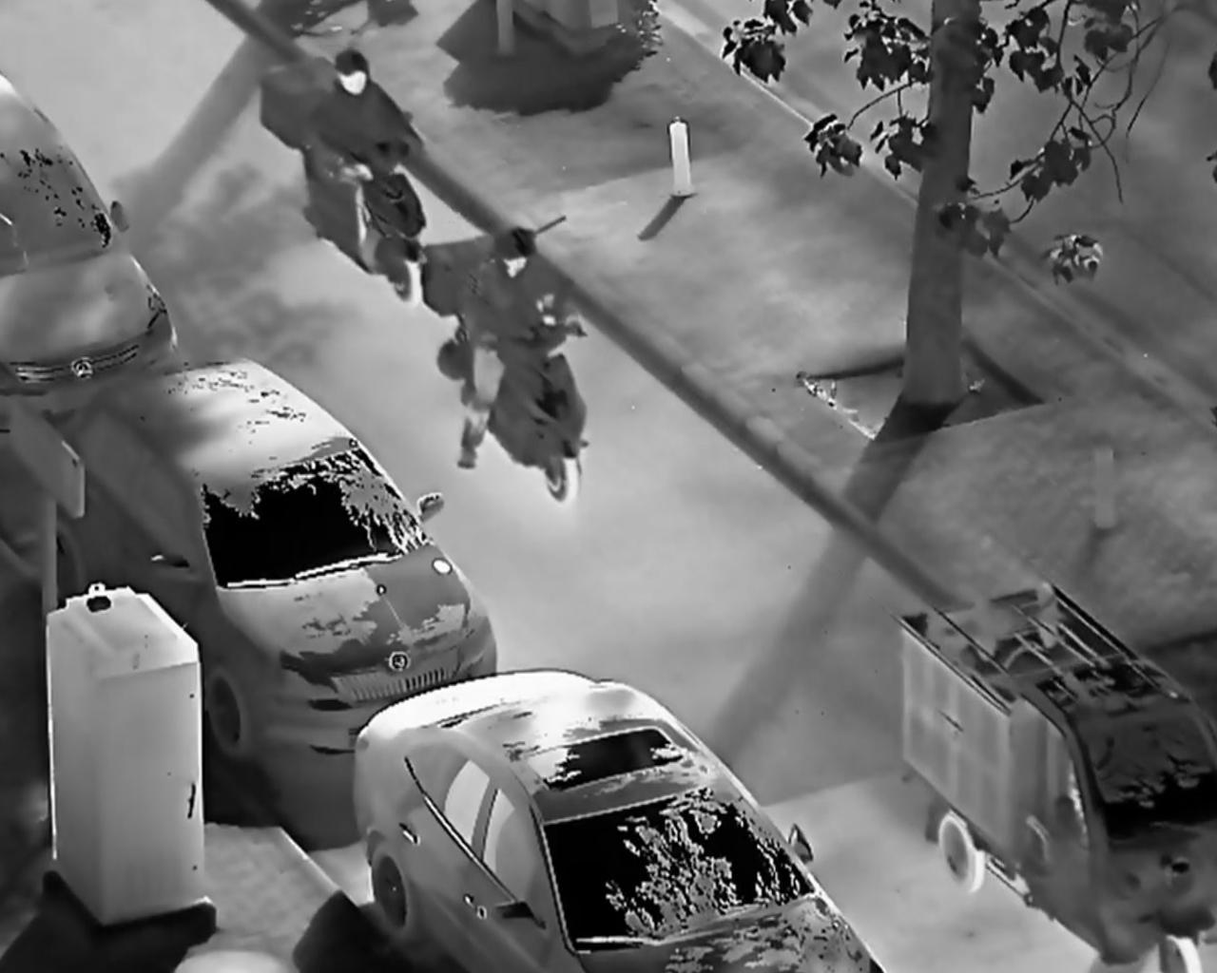person: (455, 223, 588, 474), (308, 48, 426, 254)
